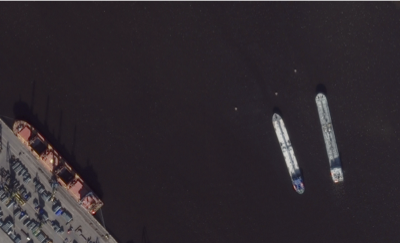boat: (11, 120, 104, 215), (271, 112, 305, 194), (314, 92, 344, 183)
